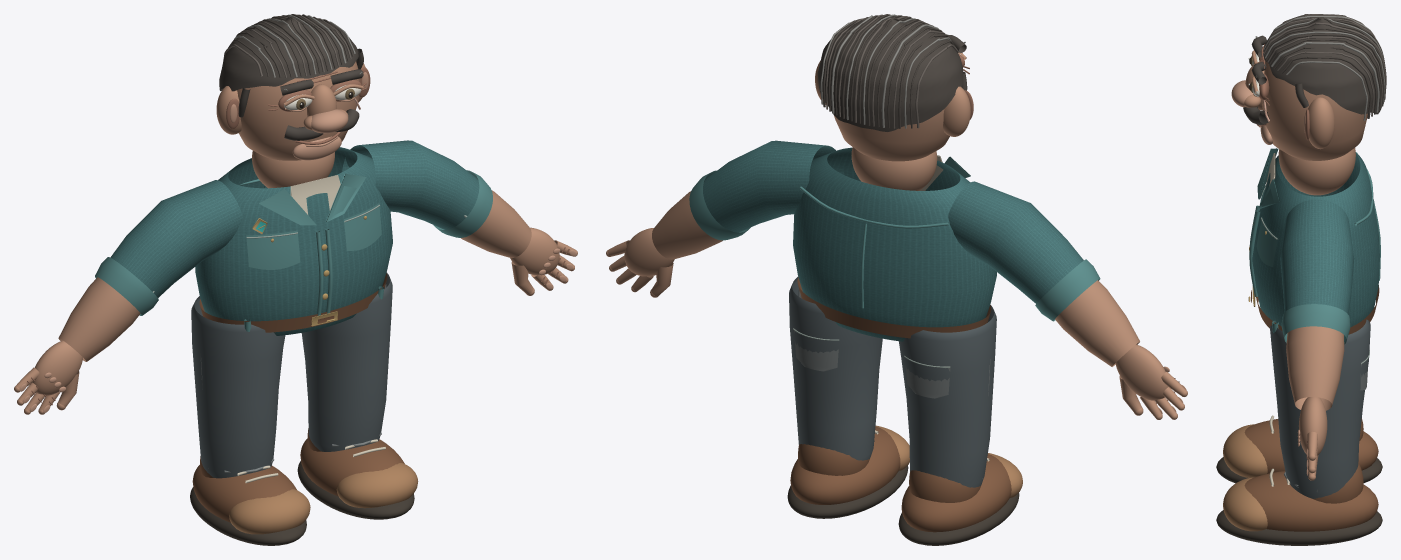
3 views of the same model, side by side, from view 1: azimuth 30°, elevation 25°; view 2: azimuth 150°, elevation 25°; view 3: azimuth 270°, elevation 25° (orthographic). The views are drawn at different scales.
Parts seen in each view (by area): view 1: Shirt | full torso, L trouser leg, R trouser leg, L sleeve, R sleeve, Hair | asymmetric cap, Head | sculpted face, L forearm, L boot | upper, R boot | upper, L boot | toe cap, R boot | toe cap (+17 smaller); view 2: Shirt | full torso, L trouser leg, R trouser leg, Hair | asymmetric cap, L sleeve, R sleeve, L forearm, R boot | upper, L boot | upper, Head | sculpted face, R forearm, Neck (+12 smaller); view 3: R trouser leg, Shirt | full torso, R sleeve, Hair | asymmetric cap, Head | sculpted face, R boot | upper, R forearm, Neck, R boot | sole, L boot | upper, R rolled cuff, R boot | toe cap (+28 smaller).
Part boxes in pixels (x1,y1,x2,y2): Shirt | full torso: [195, 147, 392, 335]; L trouser leg: [191, 296, 285, 478]; R trouser leg: [301, 272, 392, 451]; L sleeve: [110, 180, 242, 297]; R sleeve: [342, 140, 479, 229]; Hair | asymmetric cap: [219, 16, 358, 91]; Head | sculpted face: [237, 61, 359, 160]; L forearm: [58, 277, 140, 361]; L boot | upper: [192, 465, 296, 522]; R boot | upper: [300, 438, 404, 496]; L boot | toe cap: [229, 489, 310, 534]; R boot | toe cap: [336, 463, 418, 508]; Shirt | full torso: [793, 147, 996, 341]; L trouser leg: [899, 305, 996, 487]; R trouser leg: [789, 277, 882, 460]; Hair | asymmetric cap: [817, 16, 963, 131]; L sleeve: [948, 181, 1083, 303]; R sleeve: [703, 140, 844, 232]; L forearm: [1055, 280, 1139, 366]; R boot | upper: [790, 426, 900, 504]; L boot | upper: [901, 454, 1011, 532]; Head | sculpted face: [834, 109, 949, 161]; R forearm: [652, 191, 722, 259]; Neck: [851, 147, 937, 190]; R trouser leg: [1269, 319, 1370, 498]; Shirt | full torso: [1252, 152, 1379, 327]; R sleeve: [1280, 199, 1354, 314]; Hair | asymmetric cap: [1264, 14, 1381, 114]; Head | sculpted face: [1262, 61, 1367, 160]; R boot | upper: [1244, 471, 1378, 531]; R forearm: [1286, 326, 1344, 410]; Neck: [1278, 148, 1355, 195]; R boot | sole: [1216, 510, 1382, 545]; L boot | upper: [1244, 419, 1378, 473]; R rolled cuff: [1281, 304, 1350, 344]; R boot | toe cap: [1223, 477, 1267, 531].
Size of the model in its own units: 2.08 by 1.72 by 0.5397.
23 materials, 1 textured.
